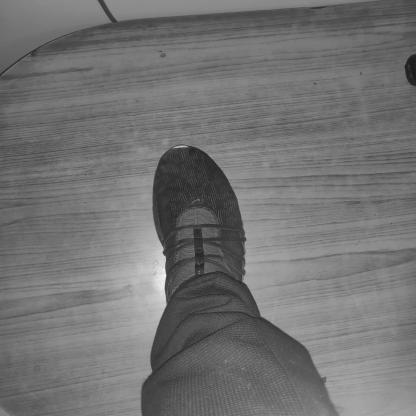ankle: (191, 279, 198, 284)
heel: (168, 302, 174, 309)
pinky: (212, 167, 217, 172)
right_foot: (154, 146, 248, 320)
toe: (163, 167, 169, 171)
